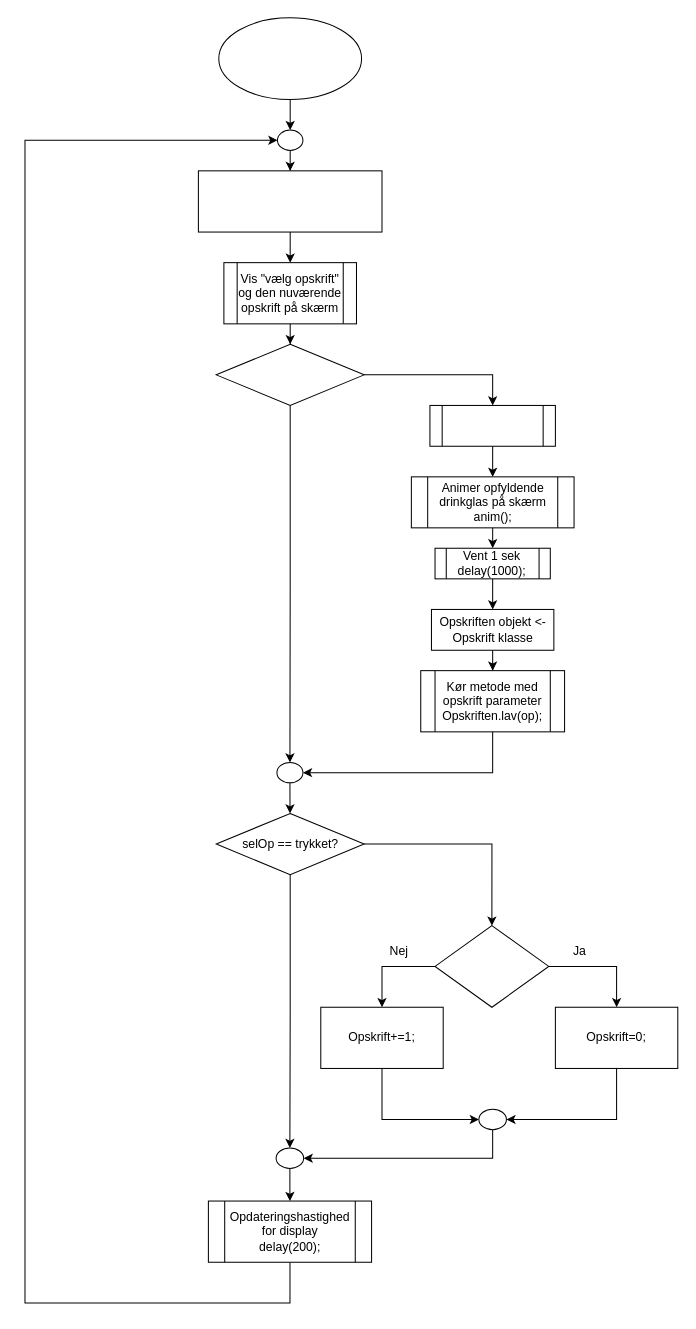
The diagram is 696 pixels wide and 1329 high, and some of its shapes have lost their labels. Here are the shapes that lost their labels. From the top down, the centre of each, then its label:
point (290, 58): Opstart procedure Definering af variabler setup();
point (289, 201): Læs knapperne op tilskriv det: selKnap selOp
point (289, 374): selKnap == trykket?
point (492, 425): Vis "laver drink" på skærm
point (491, 966): Opskrift > 5?
